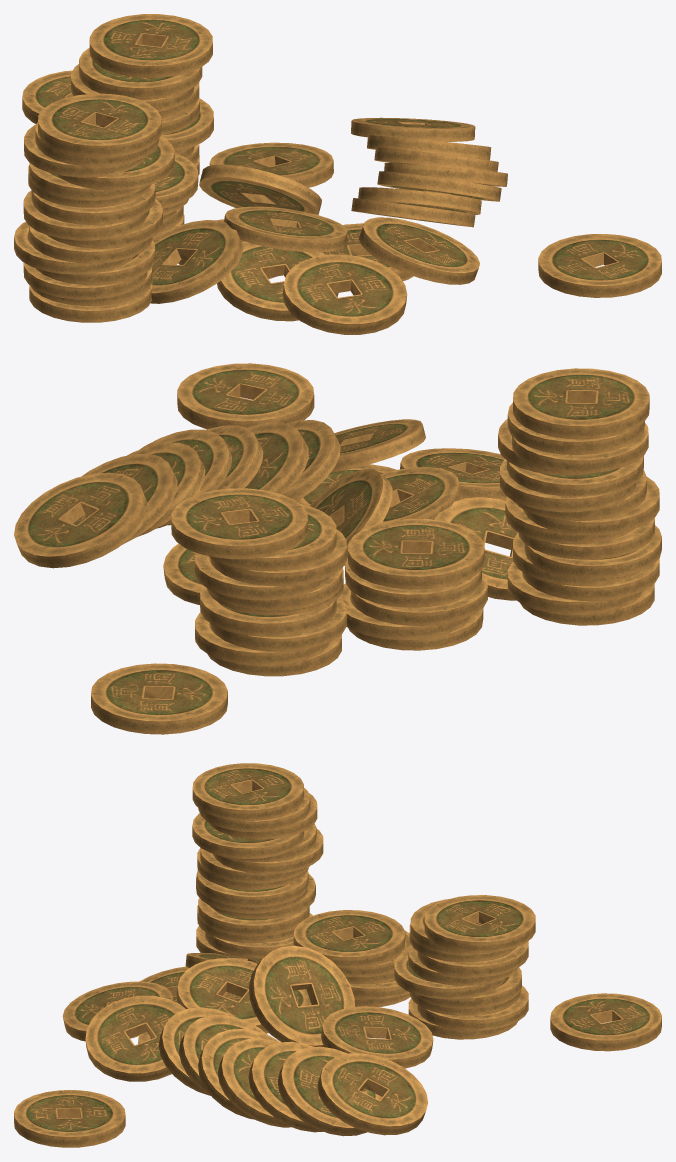
File: coins.glb
The picture shows the model from 3 angles, top to bottom: view 1: azimuth 30°, elevation 25°; view 2: azimuth 150°, elevation 25°; view 3: azimuth 270°, elevation 25°; orthographic projection. The views are drawn at different scales.
Visible parts, largest first — view 1: g; view 2: g; view 3: g.
Part boxes in pixels (x1,y1,x2,y2): g: (14, 14, 661, 334); g: (14, 363, 661, 734); g: (14, 763, 661, 1147).
Bounding box in the file's own units: 1.69 × 0.5686 × 2.
1 material, 1 textured.
